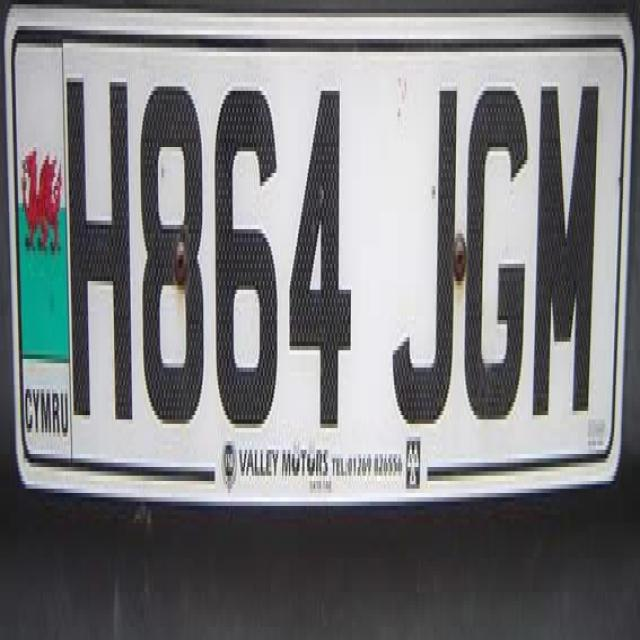Autre: (5, 17, 639, 485)
